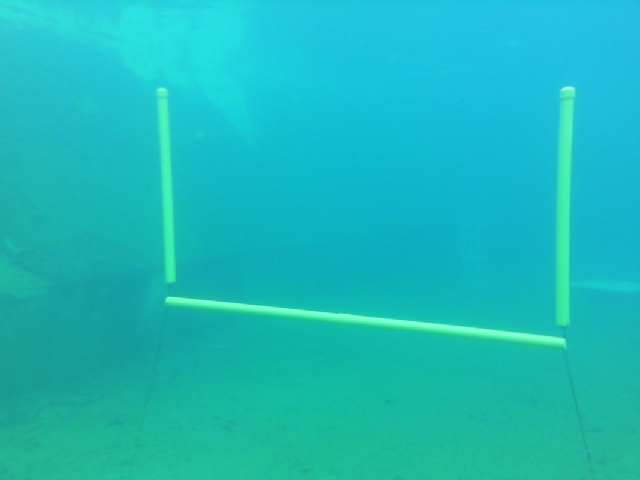channel: (145, 69, 579, 356)
